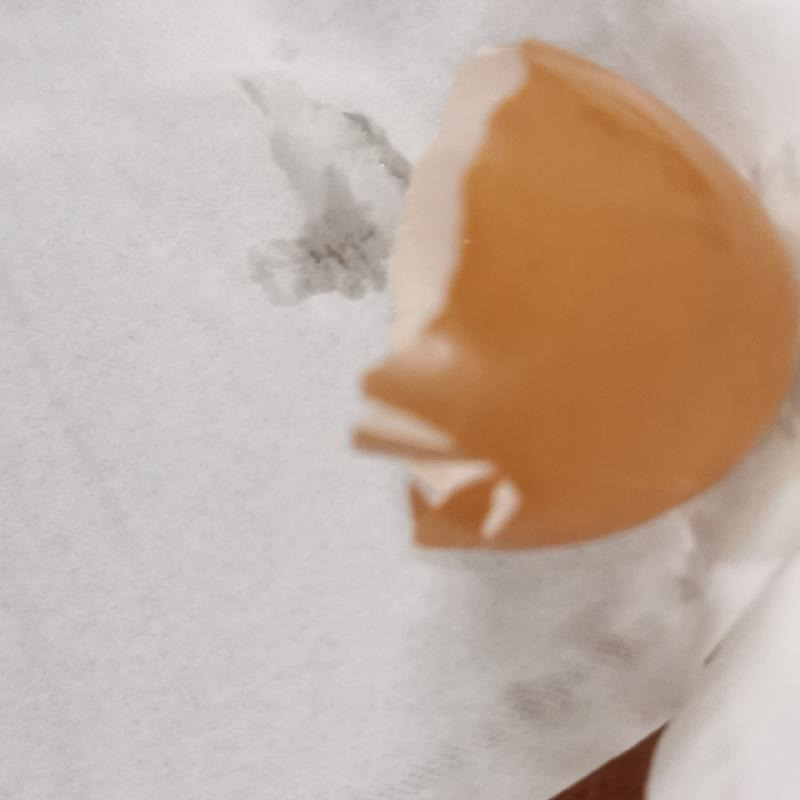eggshell: (353, 37, 800, 561)
